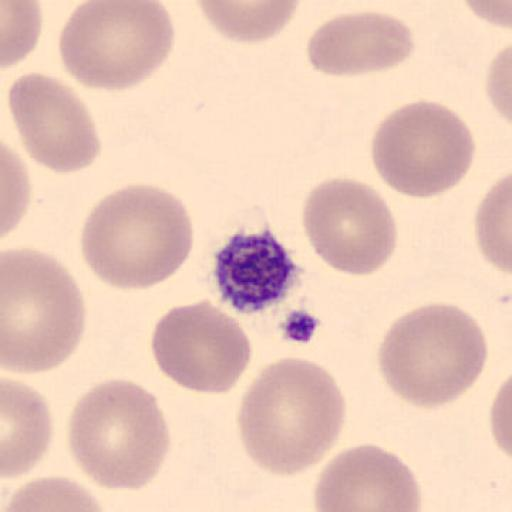Platelet: (210, 226, 306, 317), (274, 305, 326, 347)
RBC: (236, 357, 349, 477), (79, 181, 195, 293), (376, 302, 490, 410), (66, 376, 172, 491), (2, 246, 88, 376), (57, 0, 176, 93), (371, 99, 477, 200), (150, 297, 254, 396), (300, 175, 398, 278), (8, 70, 102, 175), (313, 441, 422, 512), (306, 8, 415, 78), (1, 377, 54, 481), (193, 0, 303, 44), (473, 170, 512, 277), (3, 474, 108, 512), (1, 140, 32, 240), (1, 1, 43, 71), (485, 40, 512, 128), (489, 370, 512, 465), (461, 0, 512, 30)
